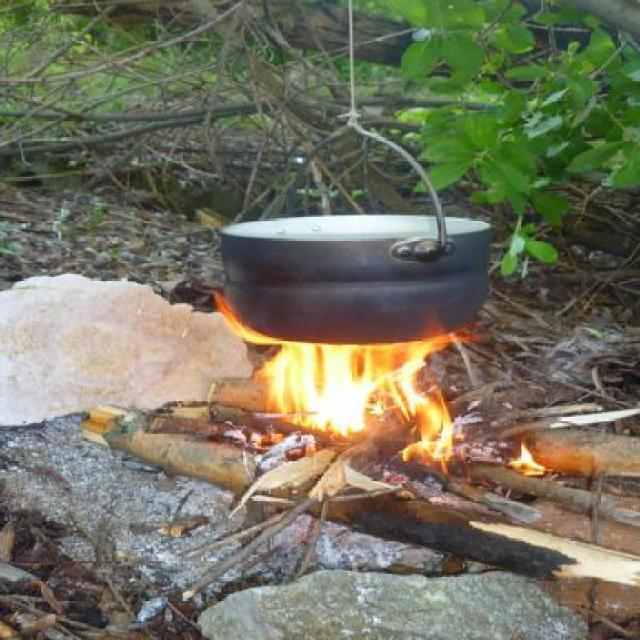fire: (261, 344, 458, 478), (507, 441, 547, 477)
